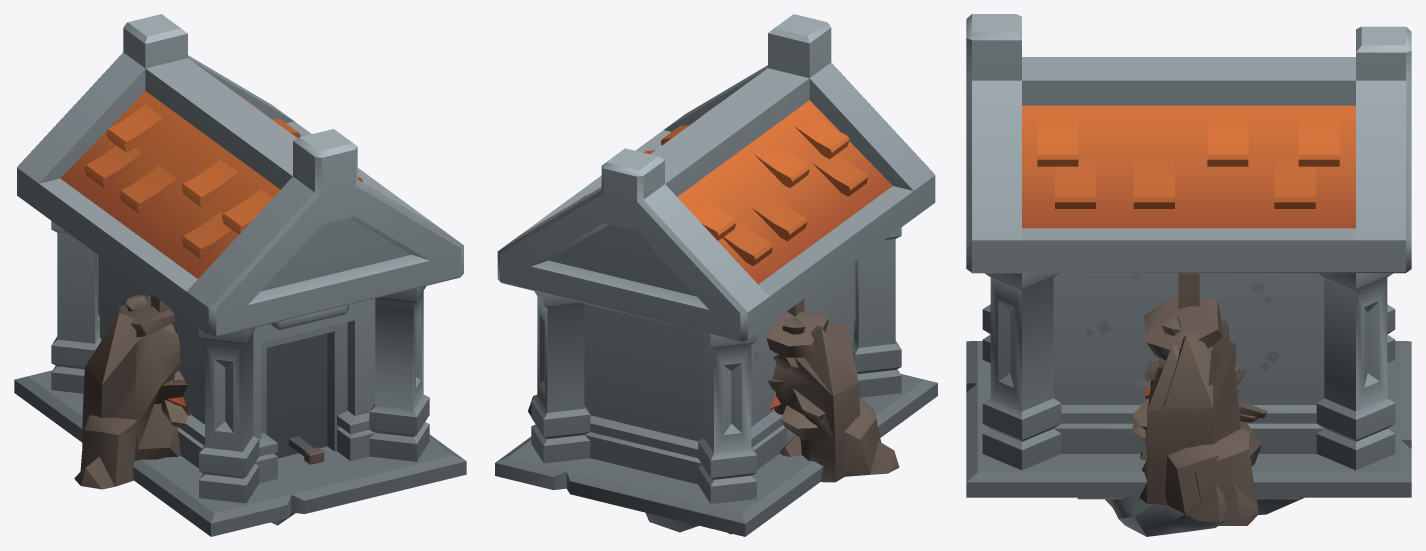
The model's file is halloween.glb.
The picture shows the model from 3 angles, left to right: view 1: azimuth 30°, elevation 25°; view 2: azimuth 150°, elevation 25°; view 3: azimuth 270°, elevation 25°; orthographic projection. The views are drawn at different scales.
Visible parts, largest first — view 1: crypt, rubble_large; view 2: crypt, rubble_large; view 3: crypt, rubble_half, rubble_large, Rock_3_Q_Color1, wooden_gate_halloween.
Boxes of the visible parts, <box> form: crypt: <box>14,14,466,536</box>; rubble_large: <box>74,295,191,489</box>; crypt: <box>495,14,937,536</box>; rubble_large: <box>766,309,899,482</box>; crypt: <box>966,14,1411,497</box>; rubble_half: <box>1144,296,1267,520</box>; rubble_large: <box>1131,345,1258,522</box>; Rock_3_Q_Color1: <box>1108,497,1304,536</box>; wooden_gate_halloween: <box>1178,273,1199,308</box>.
Size of the model in its own units: 8.13 by 9.62 by 8.
Materials: 3 (3 with a texture image).
